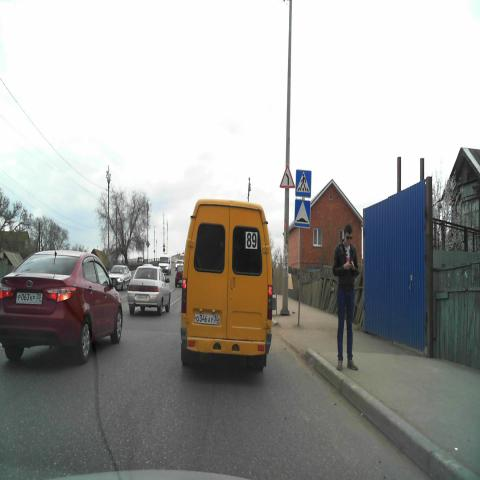1_11_1: (280, 166, 294, 188)
